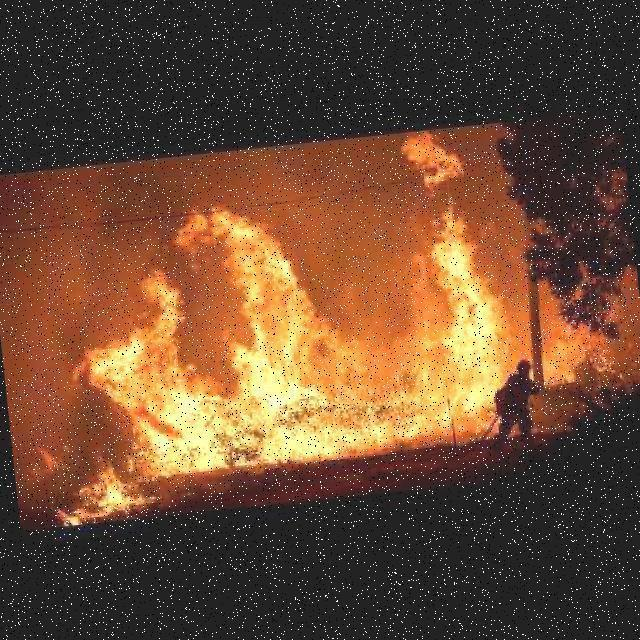Fire: (1, 124, 503, 528), (538, 295, 624, 387)
